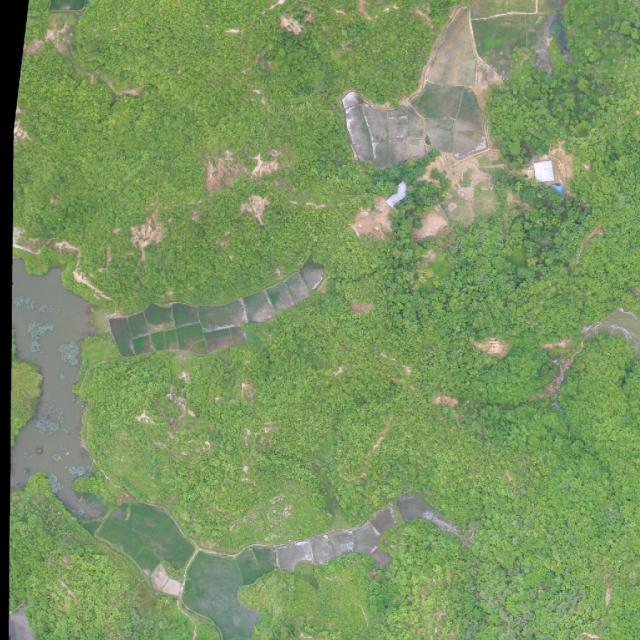agricultural_land: (11, 473, 459, 640), (107, 256, 337, 378), (579, 300, 640, 355), (424, 117, 454, 151)
wetland: (17, 14, 21, 18)
